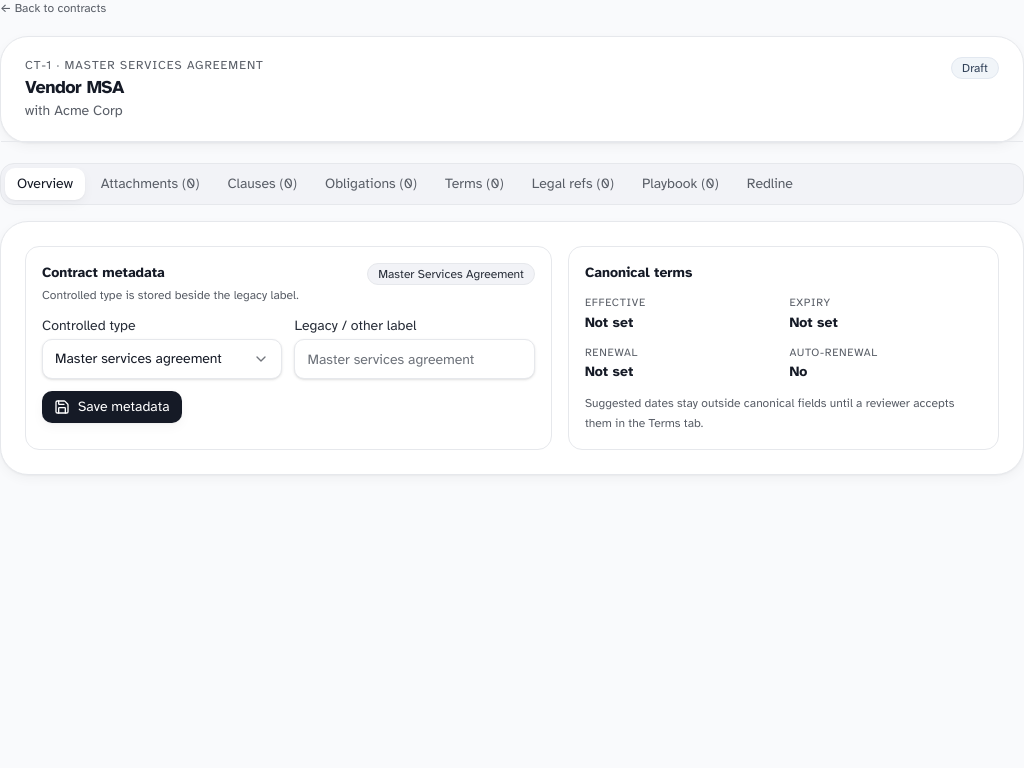
Test case: ContractDetailPage › runs tenant playbook compare and renders matched/missing/deviation findings
Check: the heading "Vendor MSA" is shown, box top-left (25, 76), bottom-right (124, 98)
Click the tab "Clauses (0)": {"x": 262, "y": 184} top-left (215, 168), bottom-right (309, 200)
(page scrolled)
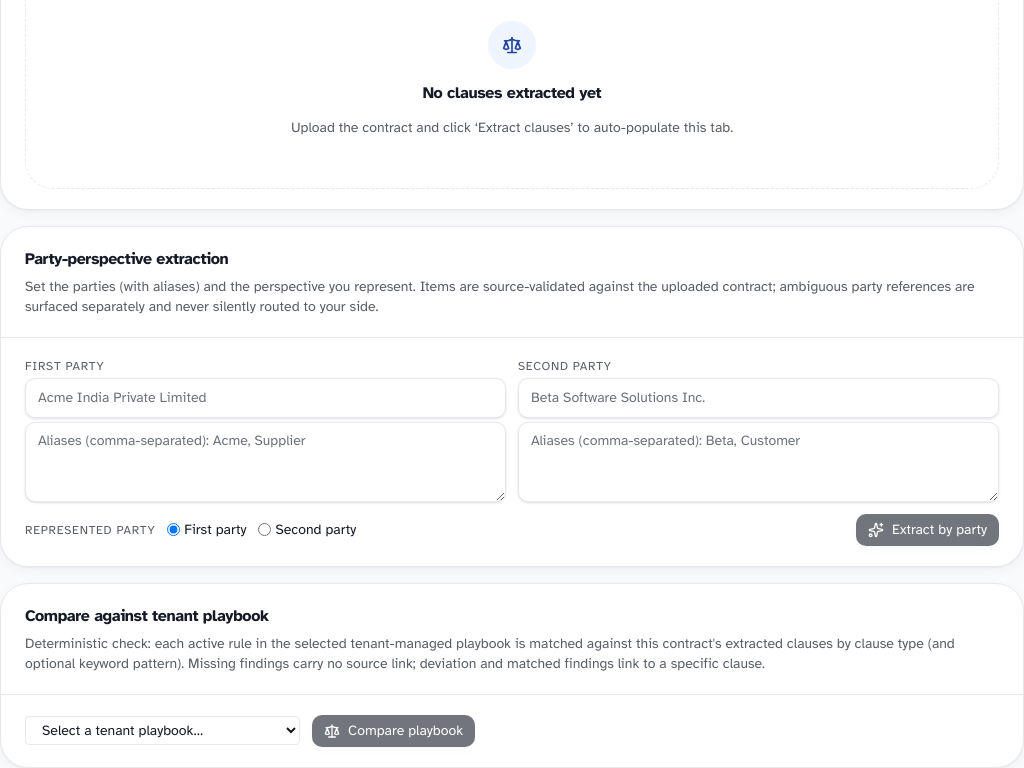
Select "Vendor MSA playbook (3 active rules)" in the dropdown with test id "tenant-playbook-select": {"x": 162, "y": 731} top-left (25, 716), bottom-right (300, 745)
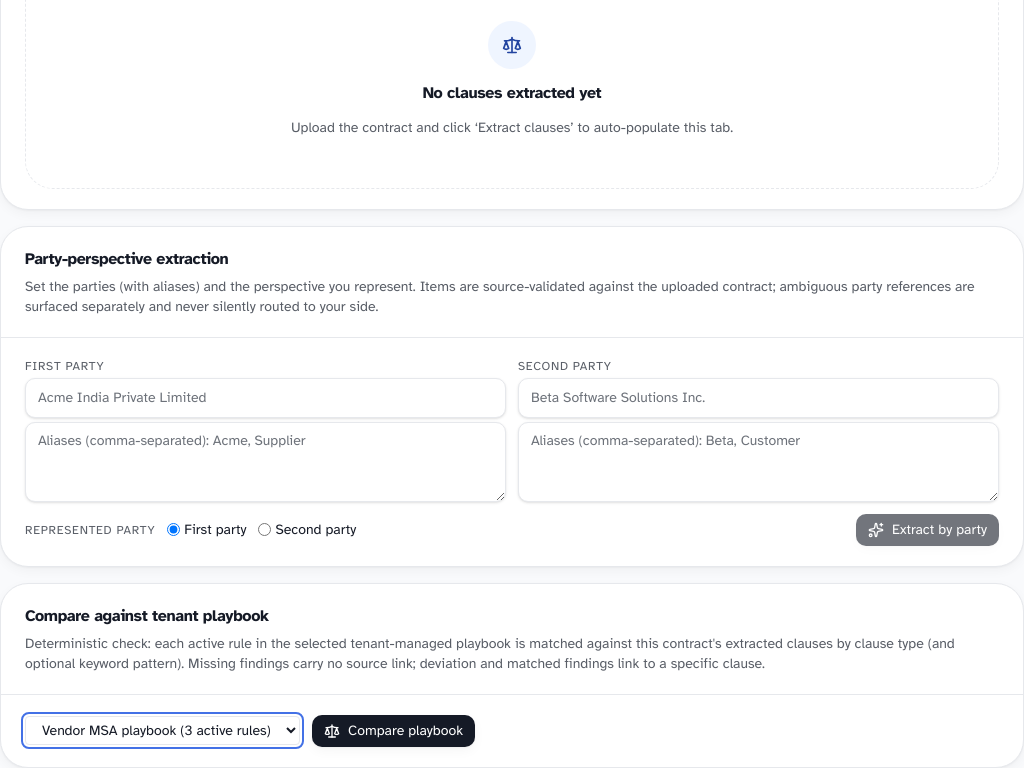
Click the button with test id "tenant-playbook-compare-button": {"x": 394, "y": 731} top-left (312, 715), bottom-right (475, 747)
(page scrolled)
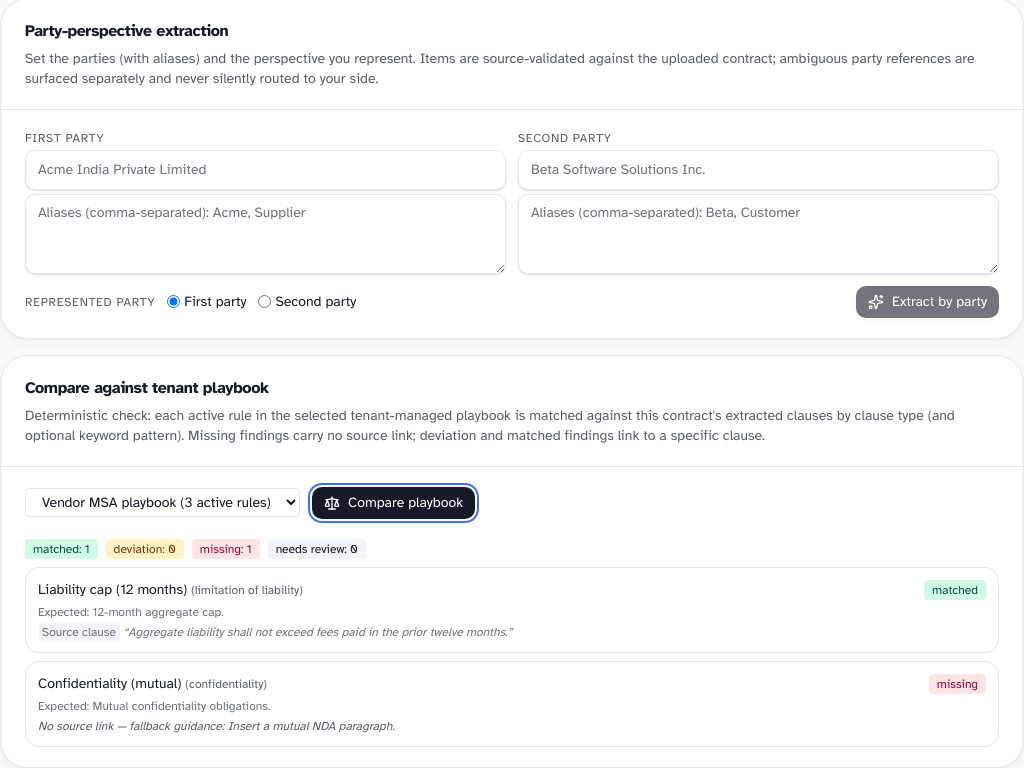
Check: the text with test id "tpc-summary-matched" reads "matched: 1", box top-left (25, 539), bottom-right (98, 559)
Check: the text with test id "tpc-summary-missing" reads "missing: 1", box top-left (192, 539), bottom-right (260, 559)
Check: the text "Liability cap (12 months) (limitation of liability)" is shown, box top-left (38, 580), bottom-right (303, 600)
